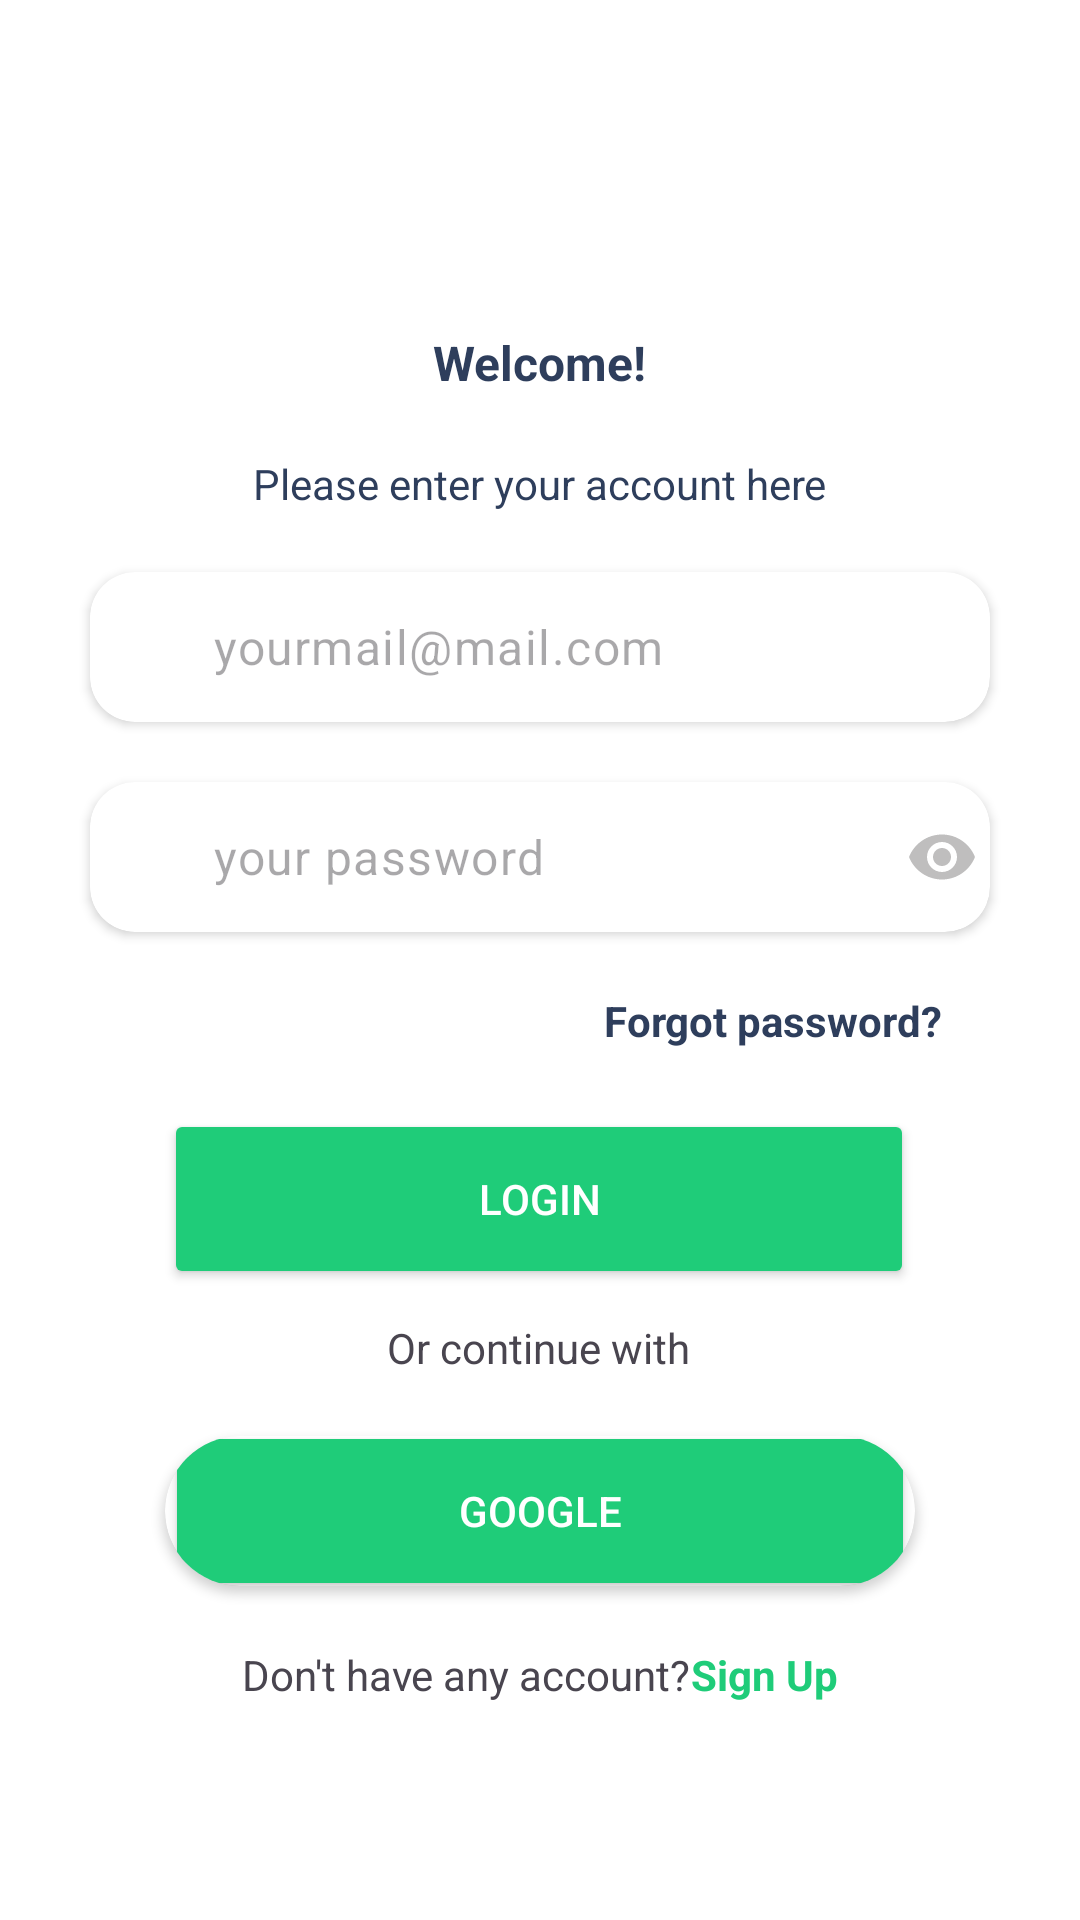

Icons on this 1080x1920 Android screen, each with the point to tap as [x,y]:
password eye: [942,857]
